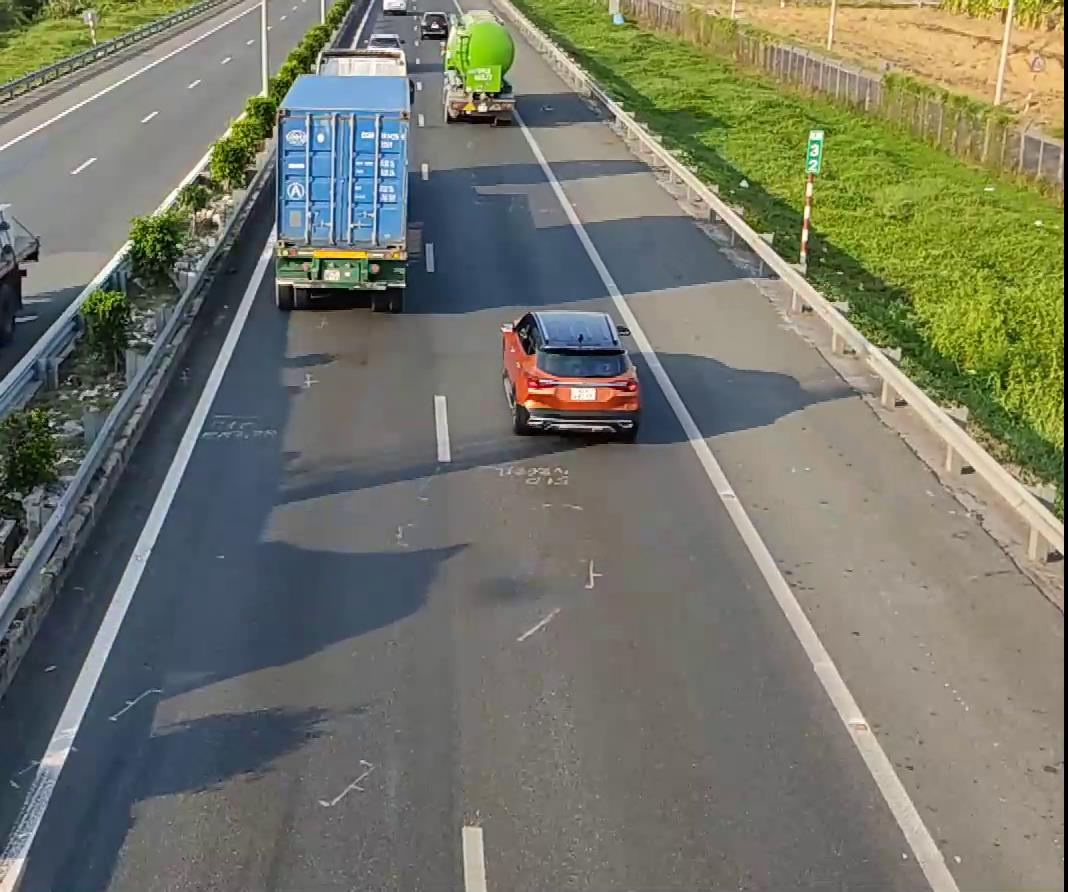car: (500, 309, 641, 437)
container: (268, 44, 416, 307), (440, 4, 516, 121)
